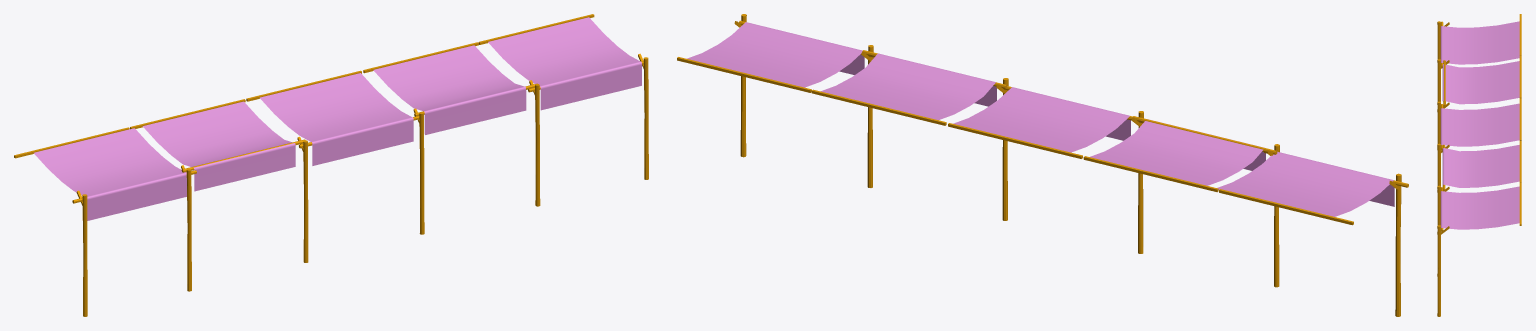
File: Dom_znati_naves_4_kovra.fbx
The picture shows the model from 3 angles, left to right: view 1: azimuth 30°, elevation 25°; view 2: azimuth 150°, elevation 25°; view 3: azimuth 270°, elevation 25°; orthographic projection. The views are drawn at different scales.
Visible parts, largest first — view 1: Dom_znati_naves_4_kovra; view 2: Dom_znati_naves_4_kovra; view 3: Dom_znati_naves_4_kovra.
Part boxes in pixels (x1=…): Dom_znati_naves_4_kovra: x1=14, y1=14, x2=648, y2=316; Dom_znati_naves_4_kovra: x1=677, y1=14, x2=1408, y2=316; Dom_znati_naves_4_kovra: x1=1437, y1=14, x2=1521, y2=316.
Bounding box in the file's own units: 121 × 24.88 × 20.49.
